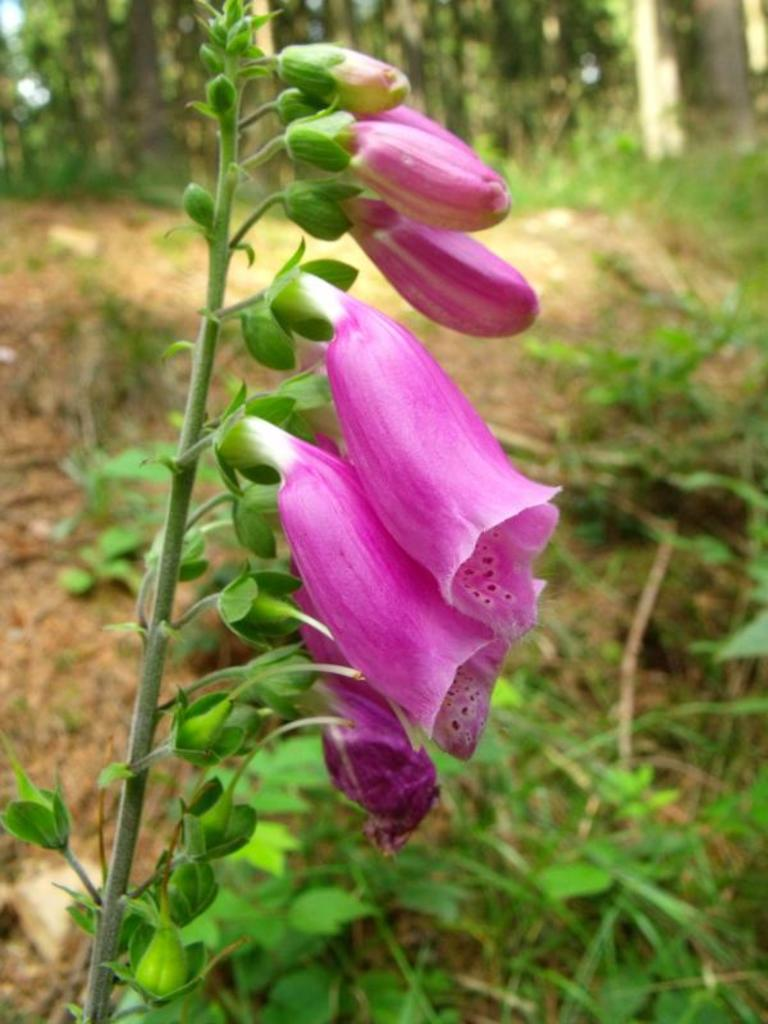Tree: (0, 1, 766, 202)
